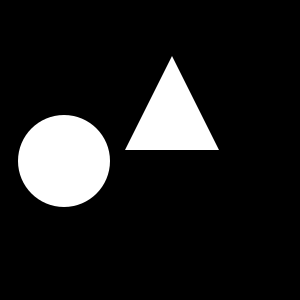rectangle: (18, 115, 110, 207)
triangle: (125, 56, 219, 150)
